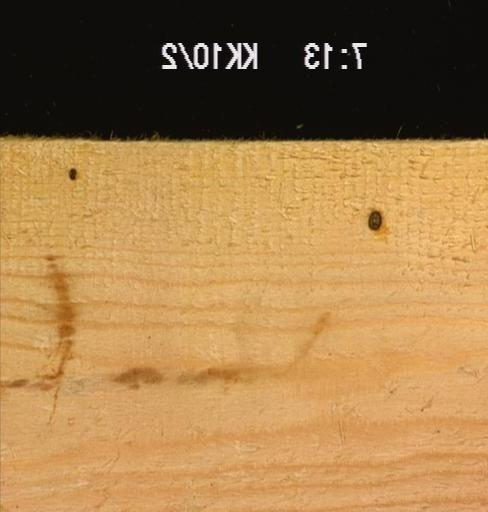dry_knot: (366, 208, 382, 231), (67, 166, 78, 181)
